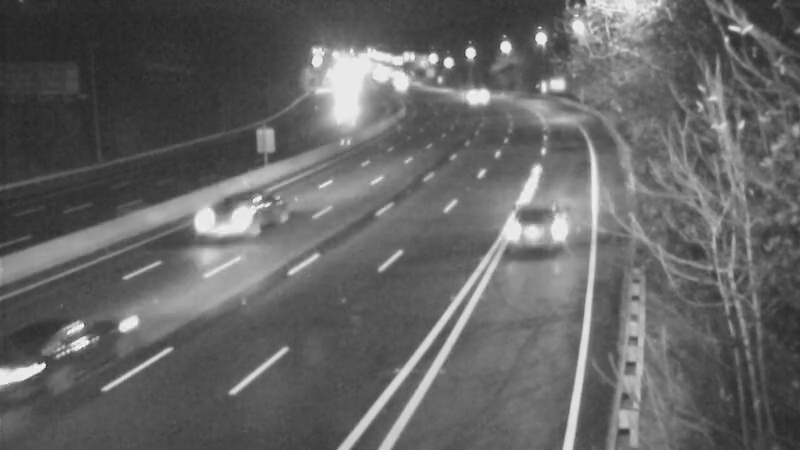vehicle: (4, 307, 114, 417), (501, 183, 581, 263), (184, 175, 264, 255), (446, 75, 496, 125), (319, 77, 369, 127)
